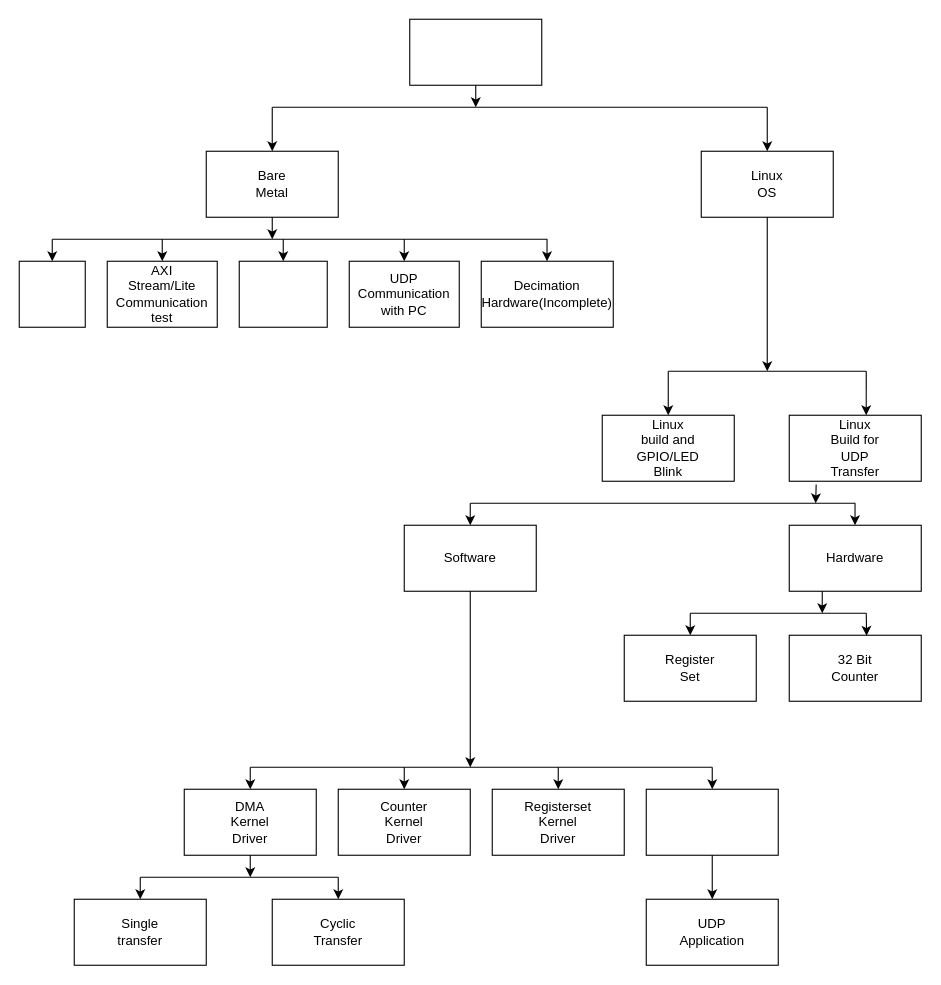
The diagram is 941 pixels wide and 985 high, and some of its shapes have lost their labels. Here are the shapes that lost their labels. From the top down, the box of each, then its label:
(409, 18, 542, 85): Neptune
(18, 260, 85, 327): FSM
(238, 260, 327, 327): DDS/NCO Hardware
(645, 788, 778, 855): User Space Application
